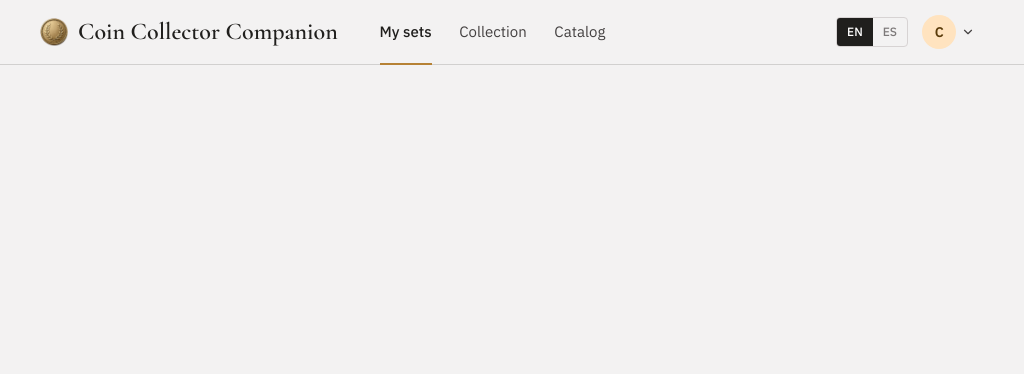
Test: SiteNav › criterion 4: Admin item, only when /auth/me reports role admin › shows site-nav-admin-link first in the opened menu for an admin
The image size is (1024, 374).
expect the text with test id "site-nav-account-avatar" reads "C": met, box x1=935 y1=23 x2=944 y2=41
What coordinates should you click on to do the following:
click the button with test id "site-nav-account-trigger"
I would click on:
 (951, 32)
Its box is x1=917 y1=10 x2=984 y2=54.
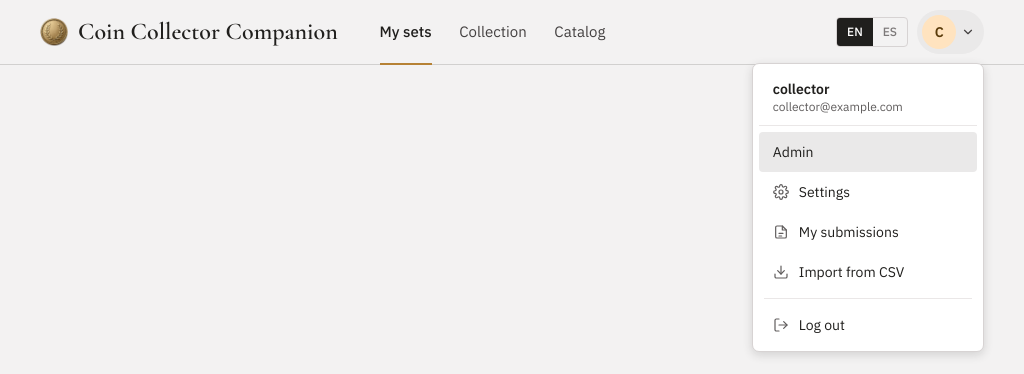
expect the menu item with test id "site-nav-admin-link" reads "Admin": met, box x1=759 y1=132 x2=977 y2=172
